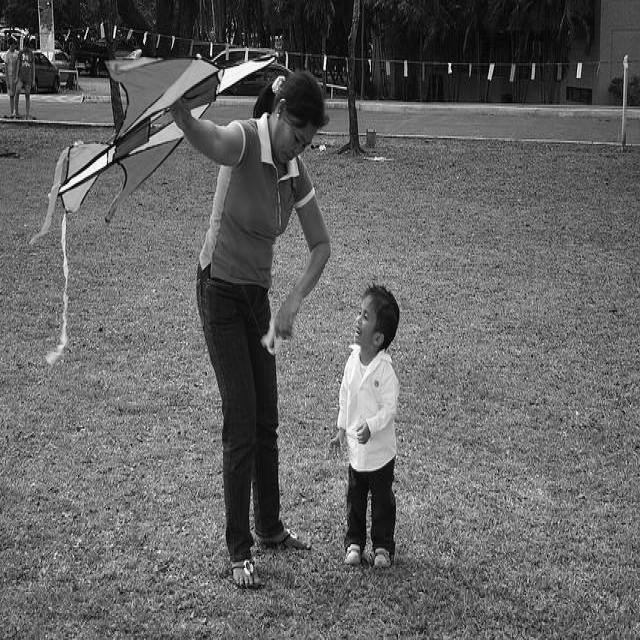vehicle: (218, 62, 294, 96), (211, 48, 277, 68), (34, 54, 61, 92), (45, 50, 71, 84)
